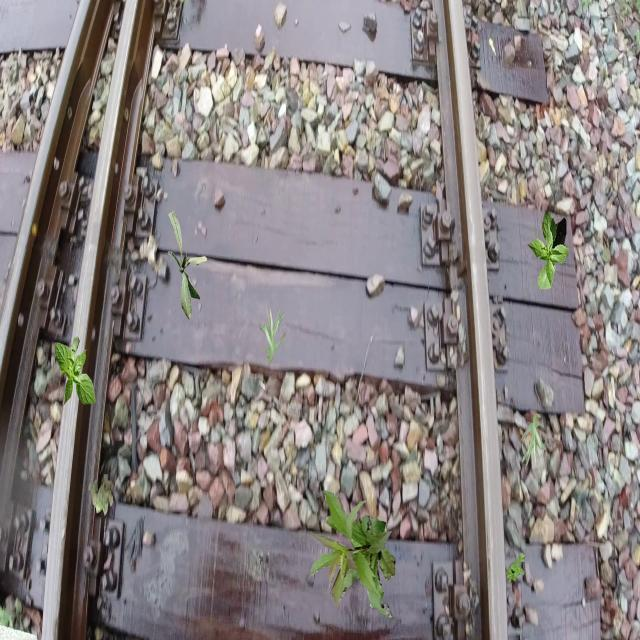Plant: (307, 490, 396, 620), (168, 210, 208, 320), (527, 210, 569, 290), (55, 336, 96, 407), (520, 412, 546, 468), (260, 306, 286, 362), (88, 474, 114, 516), (506, 552, 526, 584)
